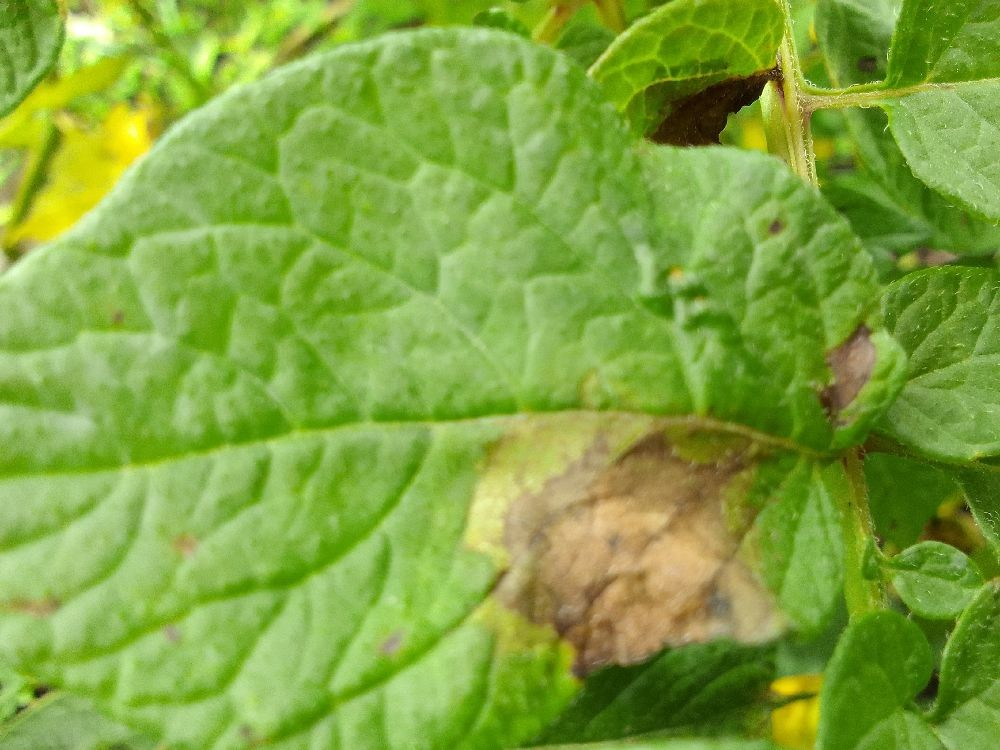late_blight: (470, 396, 793, 698), (622, 43, 846, 169), (799, 306, 888, 443), (738, 669, 826, 748)
